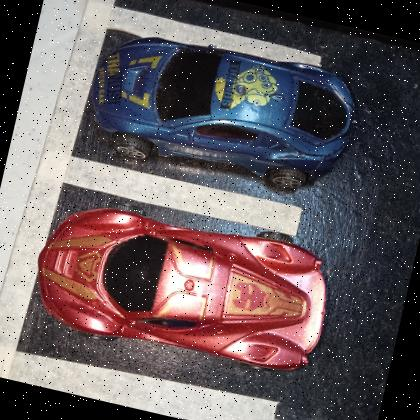Car: (36, 209, 327, 371), (90, 36, 354, 179)
